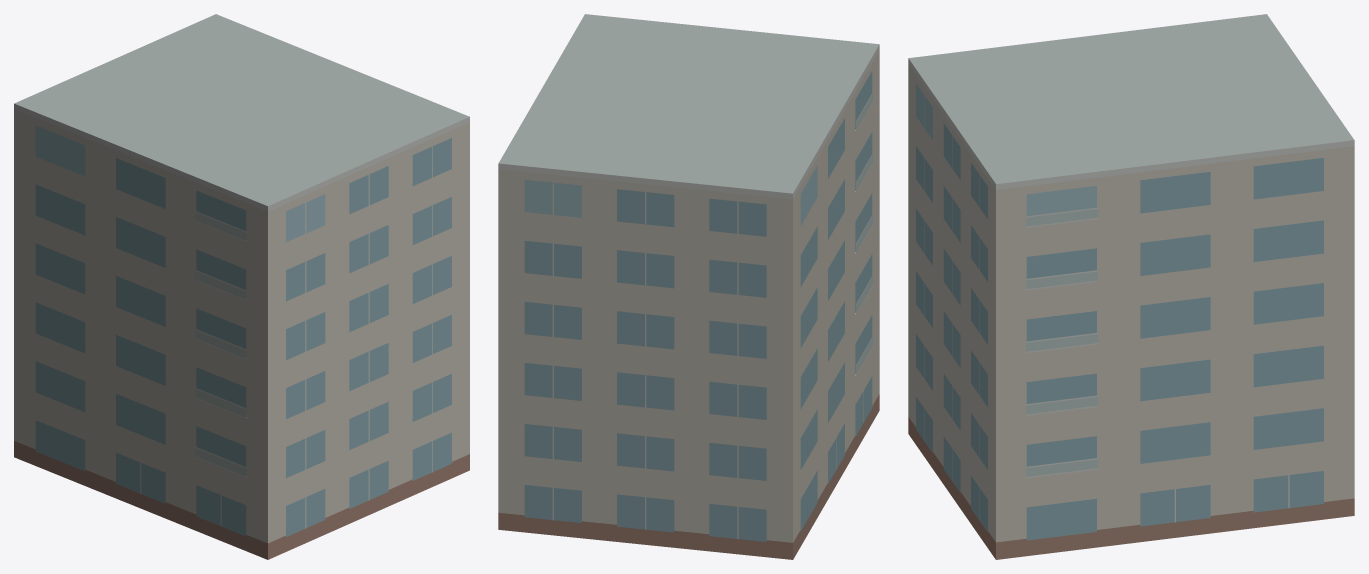
Rendered from survey-upis-32687770.glb.
3 views of the same model, side by side, from view 1: azimuth 30°, elevation 25°; view 2: azimuth 150°, elevation 25°; view 3: azimuth 270°, elevation 25° (orthographic). The views are drawn at different scales.
Parts seen in each view (by area): view 1: survey-upis-32687770.tmp; view 2: survey-upis-32687770.tmp; view 3: survey-upis-32687770.tmp.
Part boxes in pixels (x1=…): survey-upis-32687770.tmp: x1=14, y1=14, x2=469, y2=559; survey-upis-32687770.tmp: x1=498, y1=14, x2=879, y2=559; survey-upis-32687770.tmp: x1=908, y1=14, x2=1354, y2=559.
Bounding box in the file's own units: 15.17 × 15.6 × 16.8.
